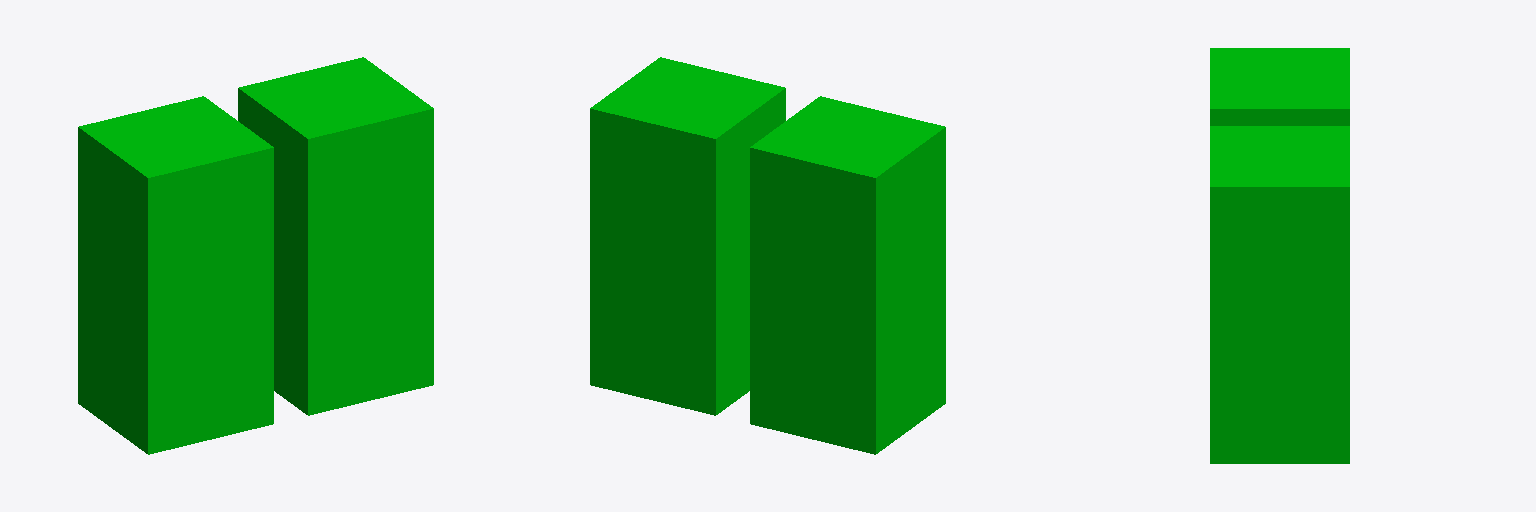
The model's file is chairs.obj.
The picture shows the model from 3 angles: view 1: azimuth 30°, elevation 25°; view 2: azimuth 150°, elevation 25°; view 3: azimuth 270°, elevation 25°; orthographic projection.
Parts seen in each view (by area): view 1: chair_left, chair_right_; view 2: chair_left, chair_right_; view 3: chair_right_, chair_left.
Part boxes in pixels (x1,y1,x2,y2): chair_left: (78,96,273,454); chair_right_: (238,57,433,415); chair_left: (750,96,945,454); chair_right_: (590,57,785,415); chair_right_: (1210,126,1349,463); chair_left: (1210,48,1349,125).
Size of the model in its own units: 1.36 by 1.26 by 0.58.